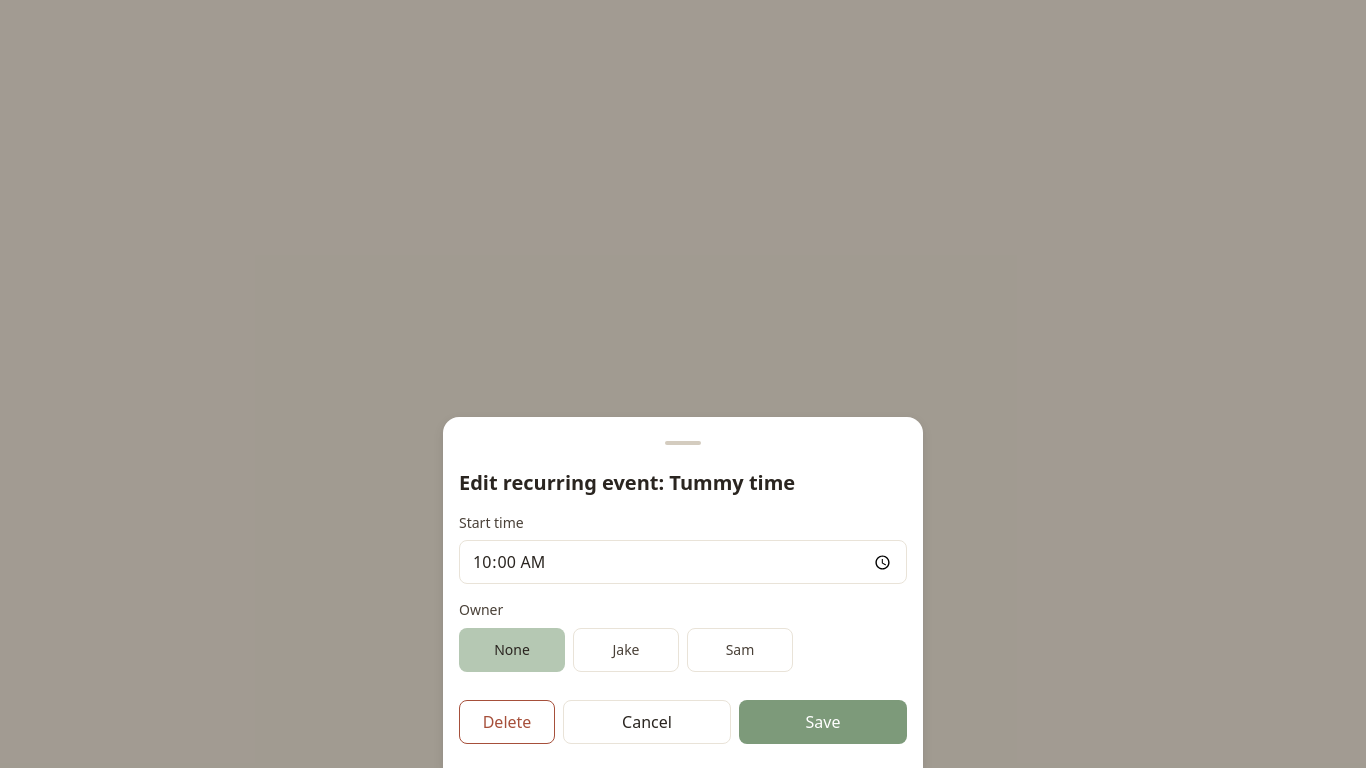
Scenario: EventEditDrawerV3 › delete confirmation for a daily_recurring uses skip-today copy
Click the button "Delete": (507, 722) [459,700,555,744]
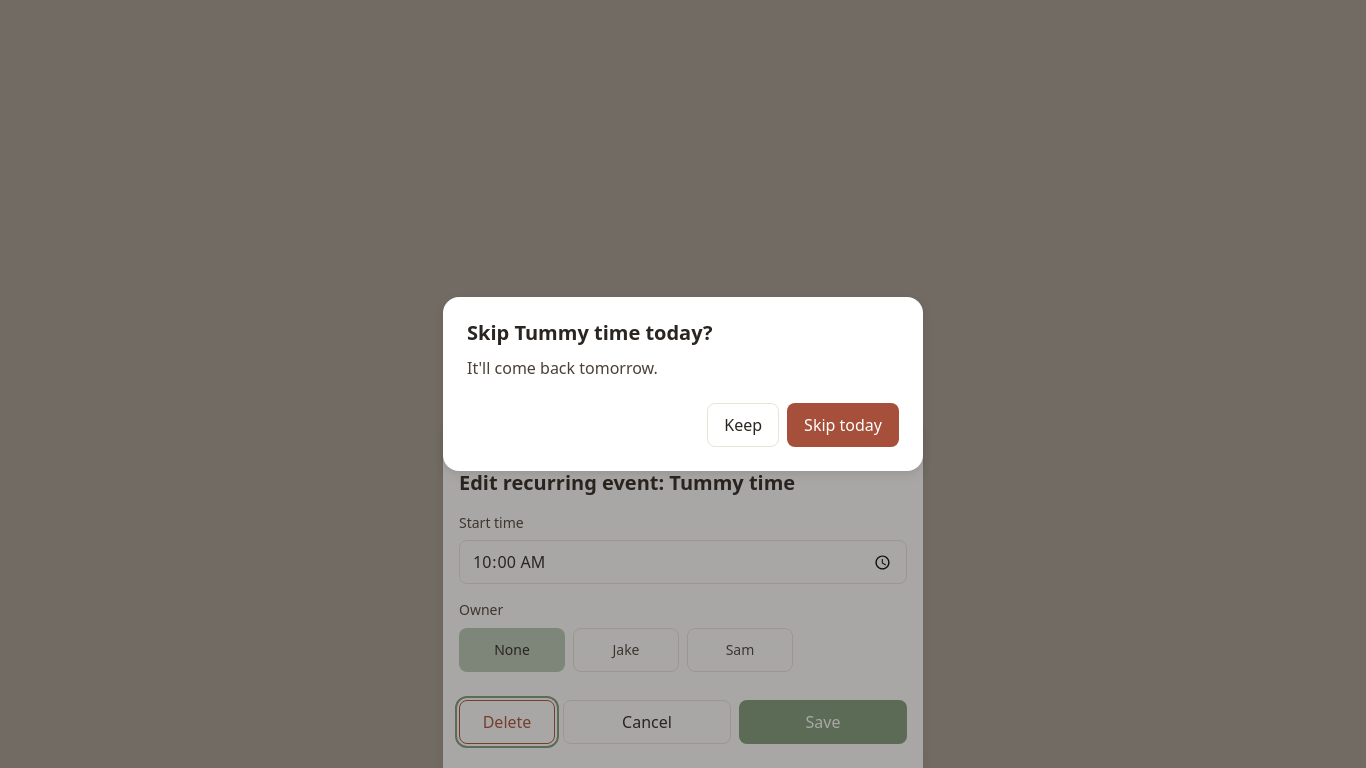
expect the heading "Skip Tummy time today?" is shown: met, box [467,319,712,346]
expect the text "It'll come back tomorrow." is shown: met, box [467,357,658,379]
